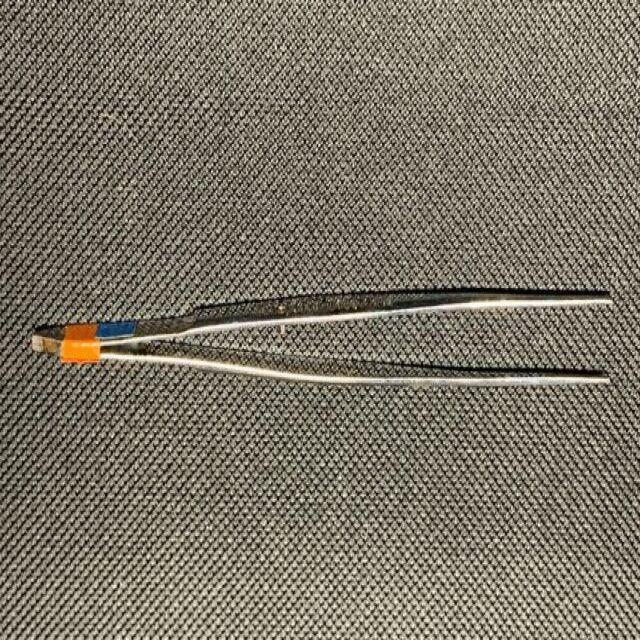Forceps: (27, 284, 617, 396)
